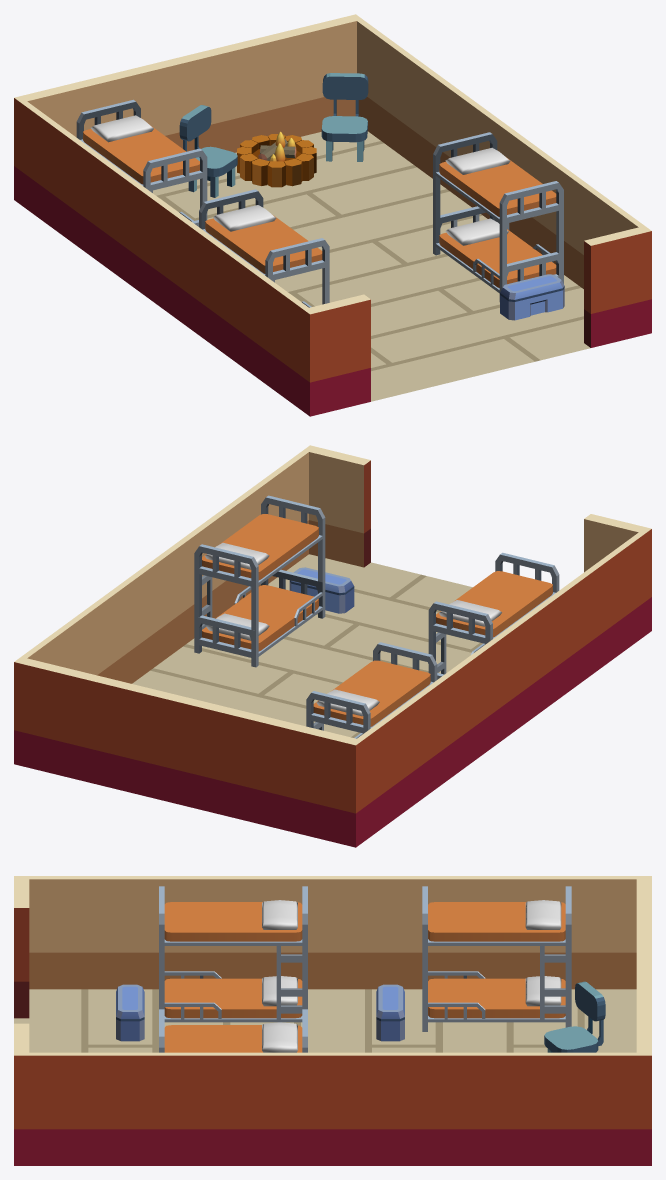
The model's file is Barrack_Lv2_b_winter.fbx.
The picture shows the model from 3 angles, top to bottom: view 1: azimuth 30°, elevation 25°; view 2: azimuth 150°, elevation 25°; view 3: azimuth 270°, elevation 25°; orthographic projection. The views are drawn at different scales.
Parts seen in each view (by area): view 1: unit125, wall_half11, wall40, wall_half10, Bed3, wall41, wall42, Bed2, Bed1, Bonfire_2_1828_71_Bonfire_2_1828_72, office_chair_prisoner, big_chest4 (+1 smaller); view 2: wall40, wall_half11, unit125, wall_half10, Bed3, Bed2, Bed1, wall41, wall42, big_chest4; view 3: wall_half10, wall_half11, unit125, Bed1, Bed2, wall40, Bed3, office_chair_prisoner1, wall42, wall41, big_chest1, big_chest3.
Part boxes in pixels (left/top/right/bottom): unit125: left=153, top=131, right=590, bottom=401; wall_half11: left=14, top=97, right=310, bottom=412; wall40: left=14, top=14, right=362, bottom=204; wall_half10: left=352, top=14, right=646, bottom=288; Bed3: left=433, top=132, right=563, bottom=301; wall41: left=584, top=227, right=651, bottom=347; wall42: left=303, top=294, right=370, bottom=416; Bed2: left=199, top=189, right=329, bottom=307; Bed1: left=76, top=99, right=207, bottom=226; Bonfire_2_1828_71_Bonfire_2_1828_72: left=237, top=131, right=316, bottom=187; office_chair_prisoner: left=321, top=73, right=368, bottom=161; big_chest4: left=500, top=274, right=564, bottom=320; wall40: left=14, top=657, right=362, bottom=845; wall_half11: left=349, top=530, right=647, bottom=847; unit125: left=132, top=554, right=482, bottom=737; wall_half10: left=15, top=448, right=311, bottom=683; Bed3: left=194, top=495, right=325, bottom=667; Bed2: left=428, top=552, right=559, bottom=679; Bed1: left=306, top=642, right=437, bottom=738; wall41: left=306, top=445, right=370, bottom=567; wall42: left=584, top=514, right=651, bottom=633; big_chest4: left=289, top=567, right=354, bottom=613; wall_half10: left=23, top=1052, right=651, bottom=1165; wall_half11: left=23, top=876, right=651, bottom=989; unit125: left=14, top=989, right=636, bottom=1052; Bed1: left=422, top=886, right=571, bottom=1031; Bed2: left=159, top=886, right=307, bottom=1022; wall40: left=636, top=876, right=651, bottom=1165; Bed3: left=159, top=1009, right=307, bottom=1052; office_chair_prisoner1: left=544, top=981, right=605, bottom=1052; wall42: left=14, top=876, right=29, bottom=1018; wall41: left=14, top=1023, right=29, bottom=1165; big_chest1: left=116, top=984, right=144, bottom=1041; big_chest3: left=376, top=984, right=404, bottom=1041.
Size of the model in its own units: 700 by 211 by 1050.
